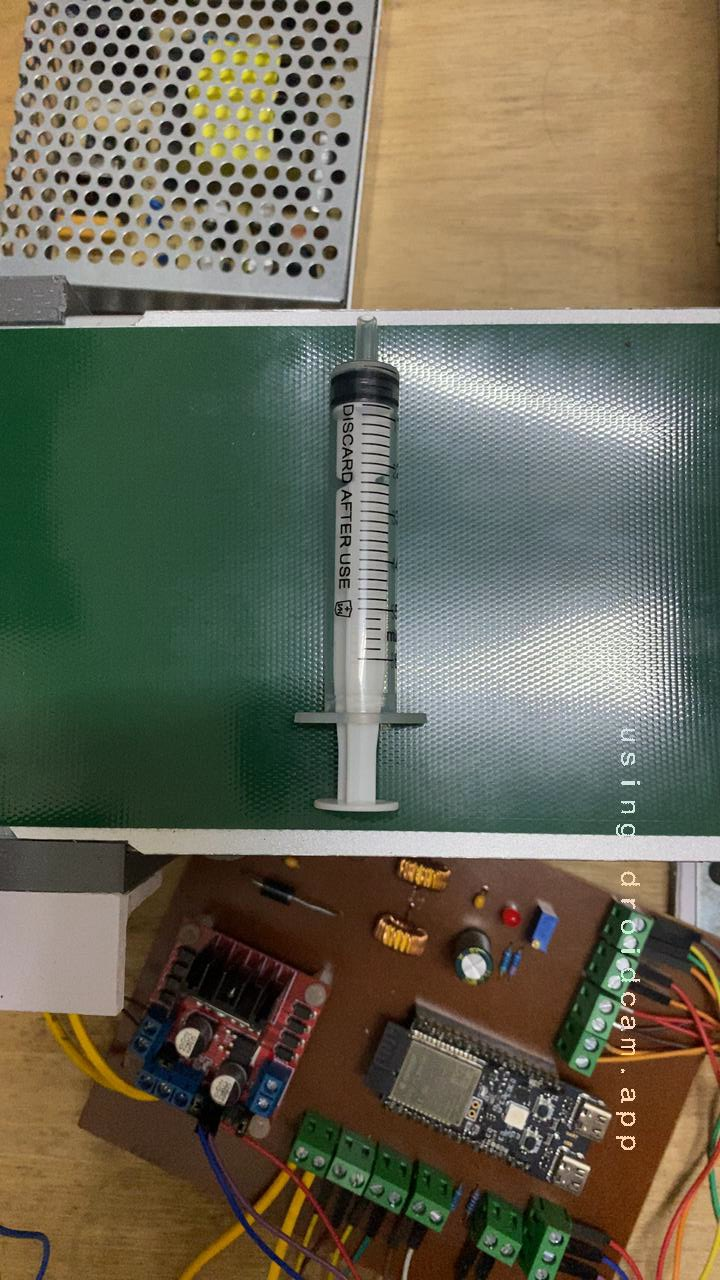syringe: (230, 349, 485, 828)
